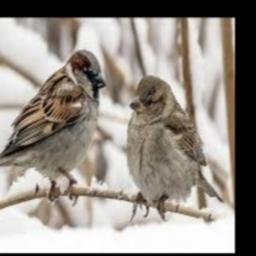Sparrow: (0, 49, 106, 206), (126, 75, 224, 223)
